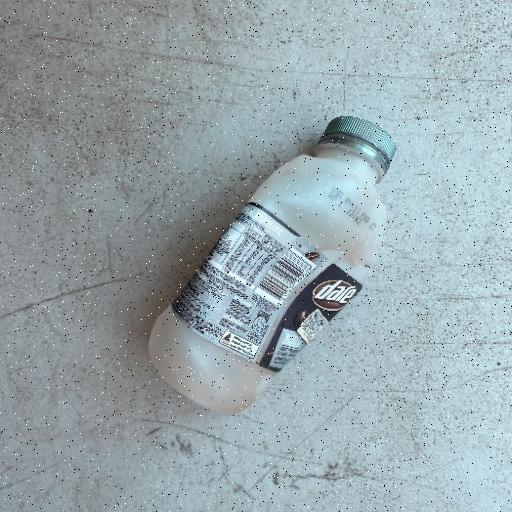Plastic: (144, 112, 398, 418)
